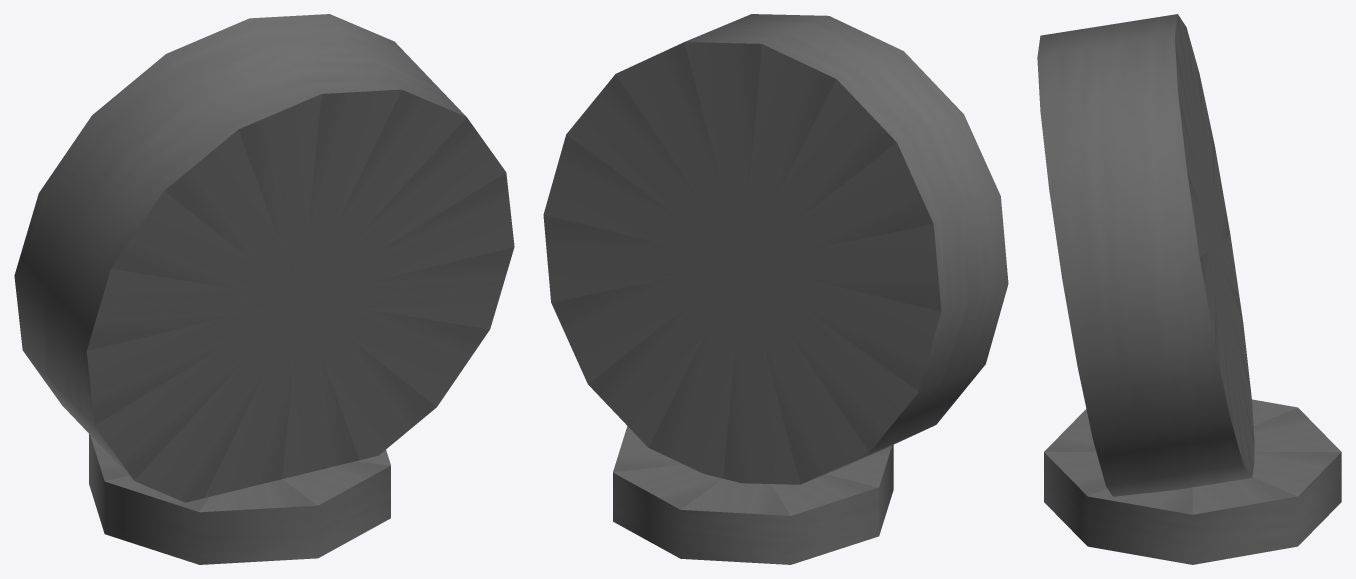
Rendered from mastarmcurve_6x2_c6_down.obj.
The picture shows the model from 3 angles, left to right: view 1: azimuth 30°, elevation 25°; view 2: azimuth 150°, elevation 25°; view 3: azimuth 270°, elevation 25°; orthographic projection. The views are drawn at different scales.
Parts seen in each view (by area): view 1: mastarm_6x2_c6_down; view 2: mastarm_6x2_c6_down; view 3: mastarm_6x2_c6_down.
Part boxes in pixels (<box>): mastarm_6x2_c6_down: <box>14,14,514,564</box>; mastarm_6x2_c6_down: <box>543,14,1008,564</box>; mastarm_6x2_c6_down: <box>1037,14,1341,564</box>.
Bounding box in the file's own units: 0.632 × 0.6911 × 0.4089.
